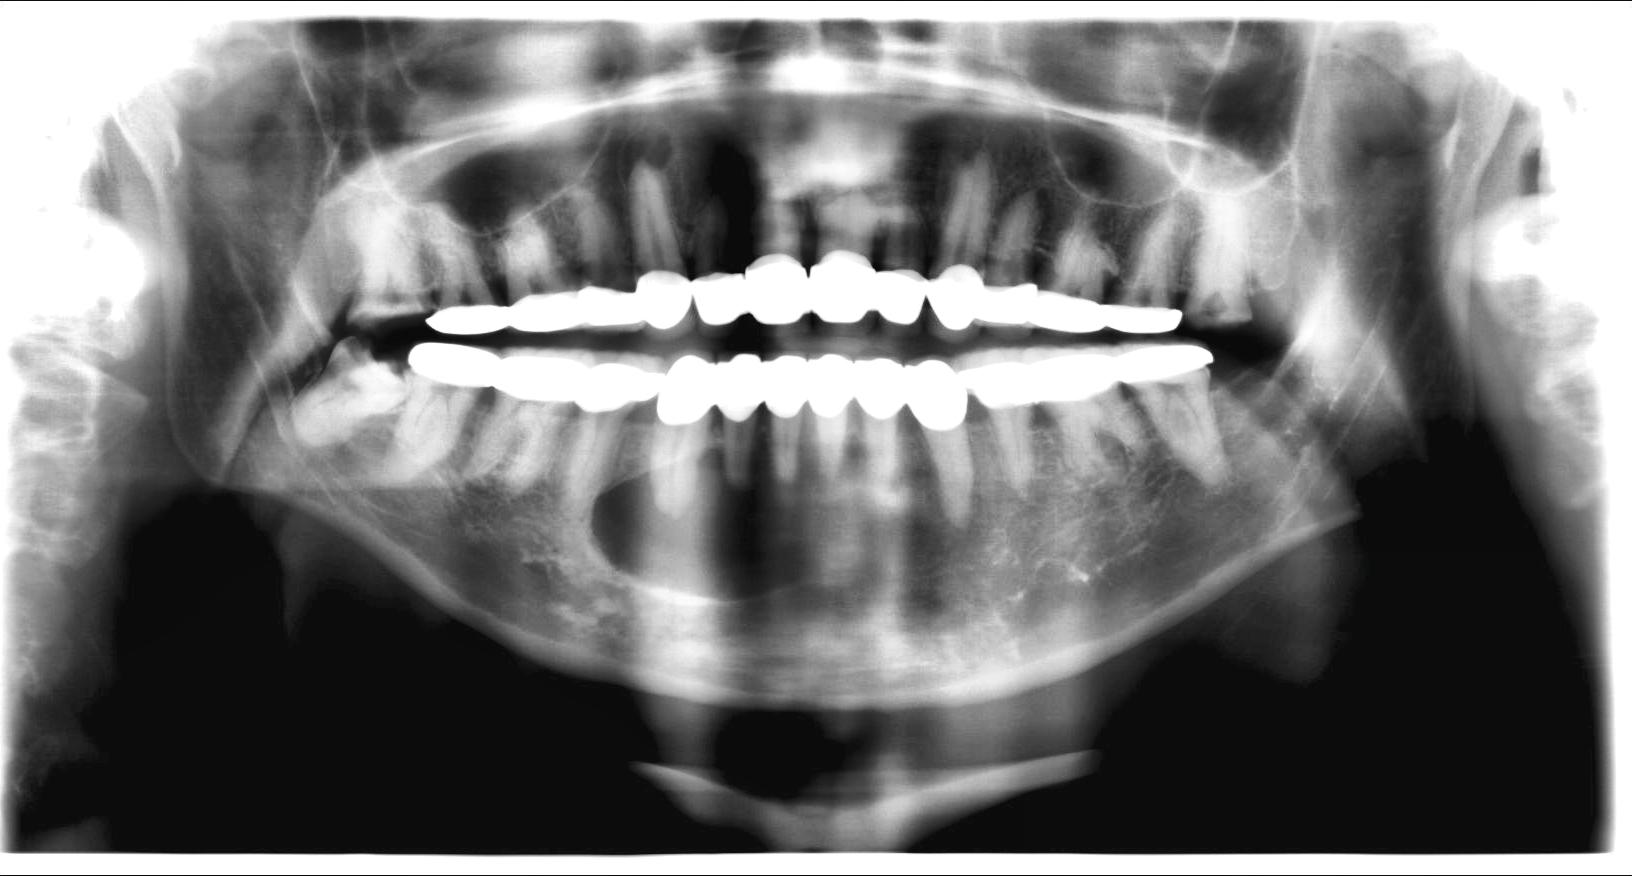radikuler: (591, 444, 941, 604)
